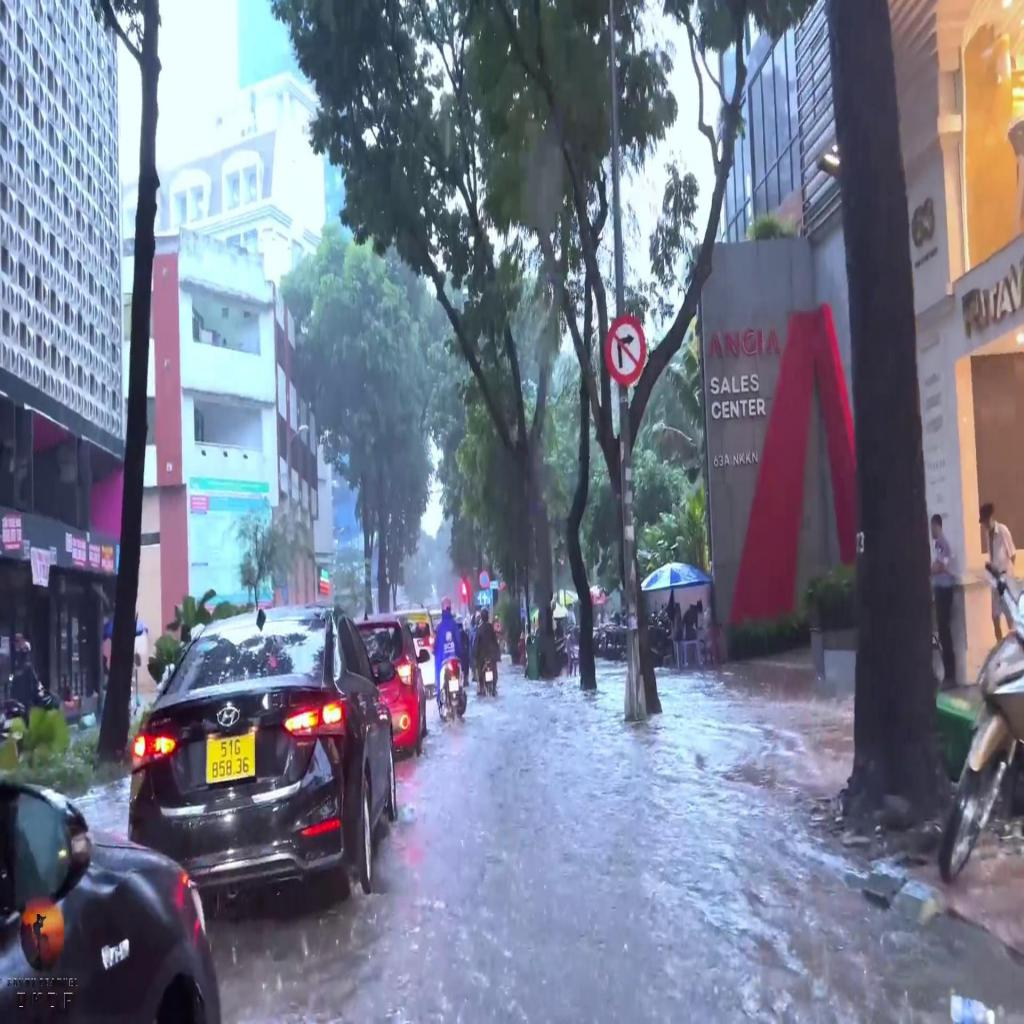cam_re_phai: (605, 315, 645, 384)
